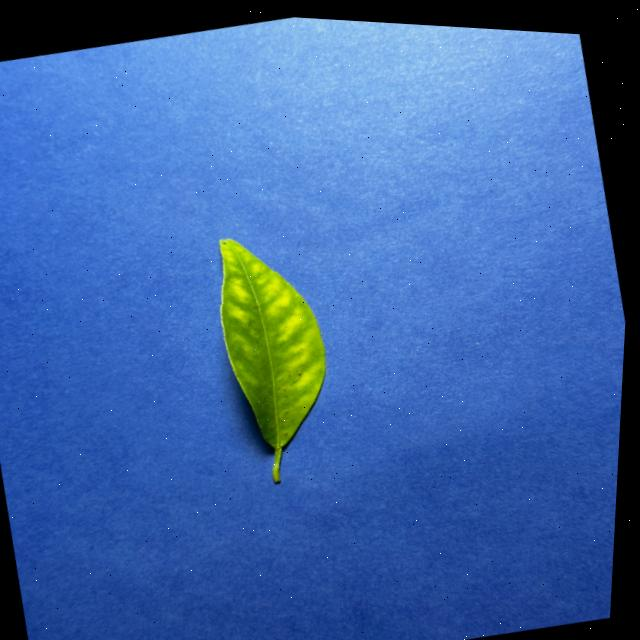greening: (218, 238, 324, 480)
